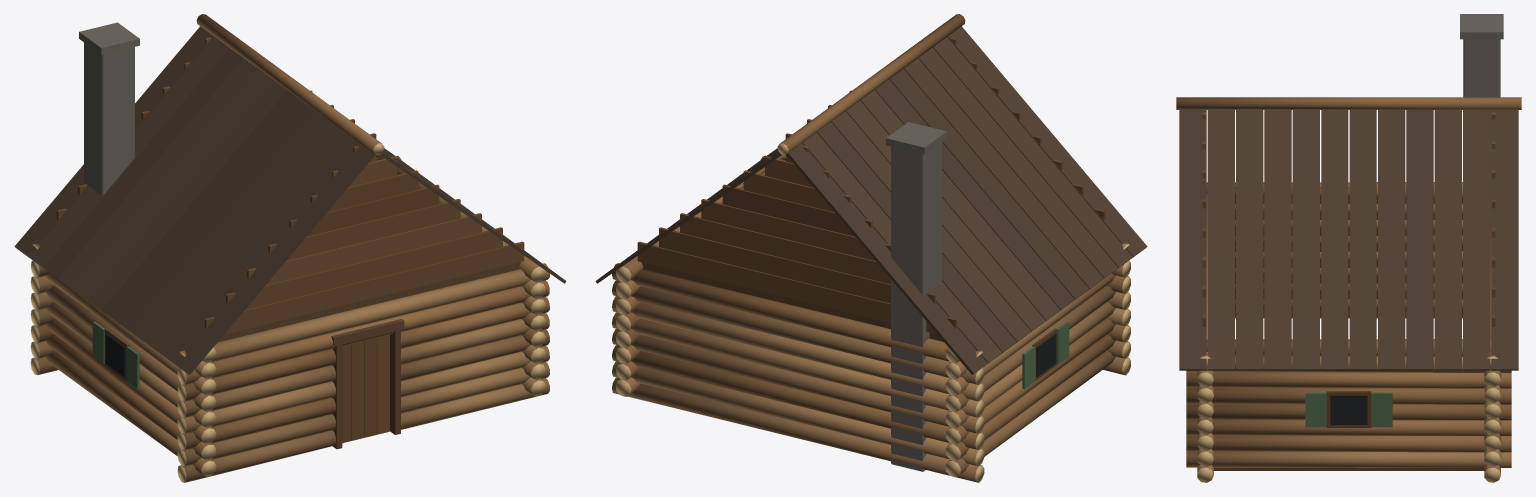
The model's file is hospital_1.glb.
3 views of the same model, side by side, from view 1: azimuth 30°, elevation 25°; view 2: azimuth 150°, elevation 25°; view 3: azimuth 270°, elevation 25° (orthographic). The views are drawn at different scales.
Visible parts, largest first — view 1: hospital1_roof, hospital1_log, hospital1_wood, hospital1_stone, hospital1_glass; view 2: hospital1_log, hospital1_roof, hospital1_wood, hospital1_stone, hospital1_glass; view 3: hospital1_roof, hospital1_log, hospital1_wood, hospital1_stone, hospital1_glass.
Part boxes in pixels (box(x1,y1,x2,y2)): hospital1_roof: box(14, 26, 566, 374); hospital1_log: box(30, 14, 549, 482); hospital1_wood: box(56, 37, 524, 449); hospital1_stone: box(79, 22, 139, 195); hospital1_glass: box(105, 333, 125, 377); hospital1_log: box(612, 14, 1130, 482); hospital1_roof: box(595, 26, 1147, 374); hospital1_wood: box(637, 37, 1105, 388); hospital1_stone: box(886, 122, 946, 471); hospital1_glass: box(1036, 333, 1056, 377); hospital1_roof: box(1179, 109, 1518, 370); hospital1_log: box(1176, 97, 1521, 482); hospital1_wood: box(1202, 112, 1495, 470); hospital1_stone: box(1460, 14, 1503, 223); hospital1_glass: box(1330, 395, 1367, 424).
Size of the model in its own units: 8.04 by 6.63 by 6.5.
